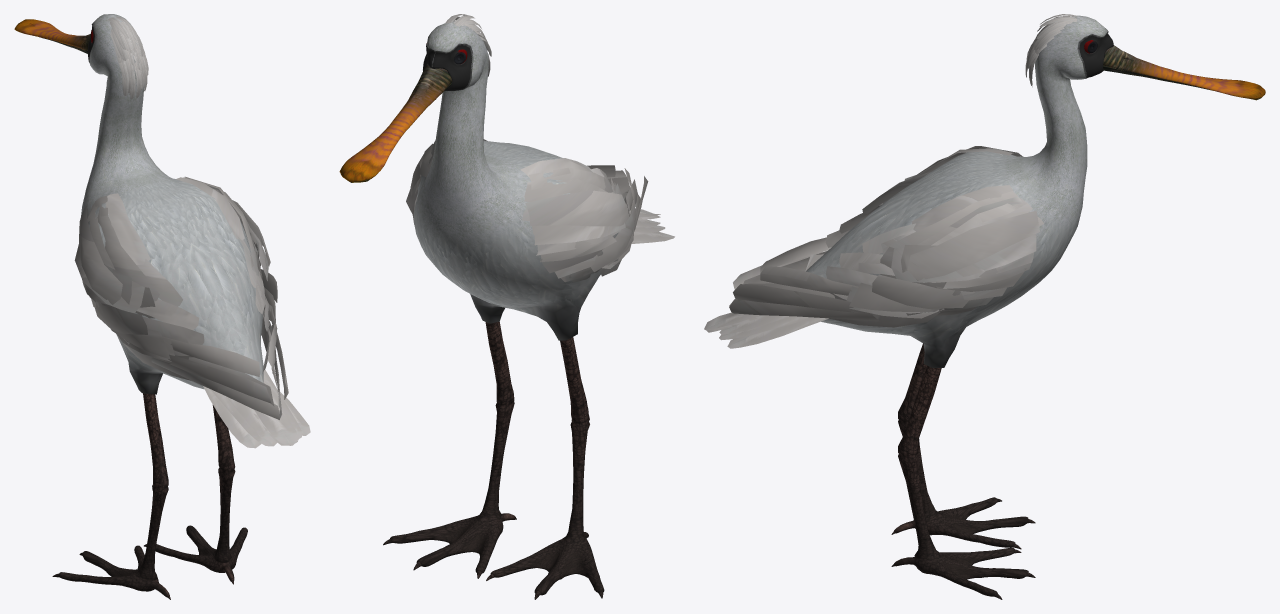
File: BlackFaceBird.fbx
3 renders of one model, left to right at view 1: azimuth 30°, elevation 25°; view 2: azimuth 150°, elevation 25°; view 3: azimuth 270°, elevation 25°, orthographic. The views are drawn at different scales.
Visible parts, largest first — view 1: BlackfaceBird; view 2: BlackfaceBird; view 3: BlackfaceBird.
Boxes of the visible parts, x1=… form: BlackfaceBird: x1=14, y1=14, x2=310, y2=599; BlackfaceBird: x1=339, y1=14, x2=674, y2=599; BlackfaceBird: x1=704, y1=14, x2=1265, y2=599.
Bounding box in the file's own units: 161 × 409 × 388.
